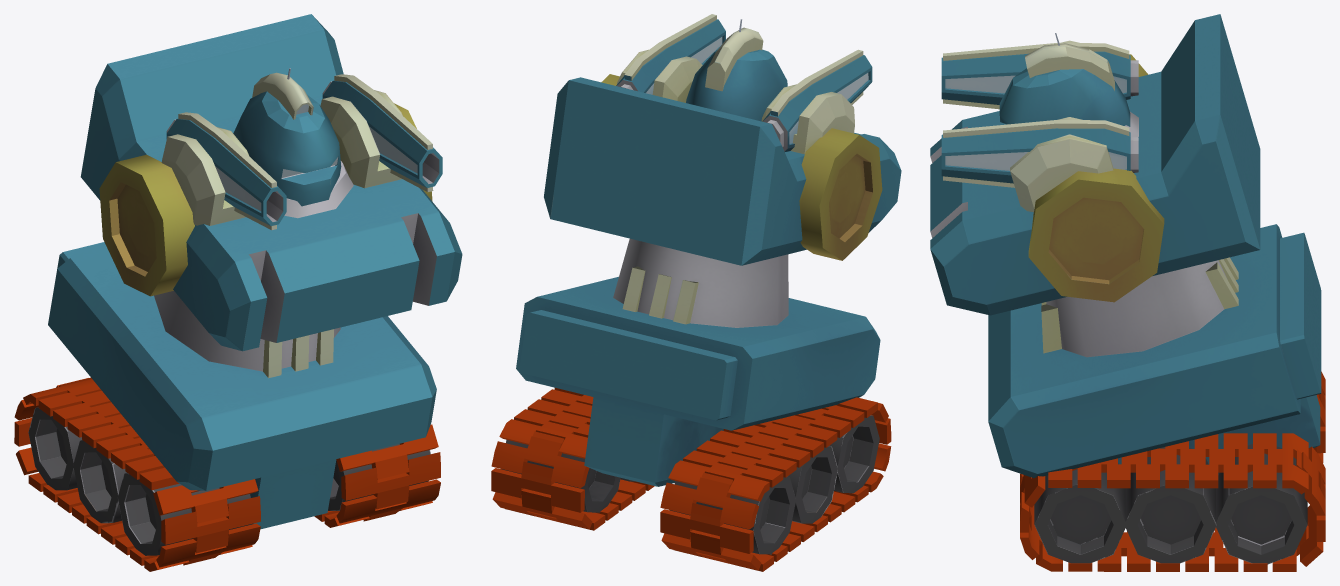
File: player_move6.obj
The picture shows the model from 3 angles, left to right: view 1: azimuth 30°, elevation 25°; view 2: azimuth 150°, elevation 25°; view 3: azimuth 270°, elevation 25°; orthographic projection. The views are drawn at different scales.
Visible parts, largest first — view 1: Object004, Box038, Object012, Object011, Box042; view 2: Object004, Box038, Box042, Object011, Object012; view 3: Object004, Object011, Box042, Object012, Box038.
Boxes of the visible parts, x1=… form: Object004: x1=48, y1=14, x2=462, y2=529; Box038: x1=14, y1=377, x2=260, y2=571; Object012: x1=166, y1=74, x2=442, y2=230; Object011: x1=28, y1=407, x2=430, y2=555; Box042: x1=314, y1=424, x2=440, y2=527; Object004: x1=516, y1=27, x2=901, y2=486; Box038: x1=660, y1=397, x2=891, y2=571; Box042: x1=491, y1=388, x2=654, y2=530; Object011: x1=501, y1=415, x2=879, y2=554; Object012: x1=616, y1=14, x2=872, y2=151; Object004: x1=930, y1=14, x2=1321, y2=478; Object011: x1=1034, y1=443, x2=1307, y2=564; Box042: x1=1020, y1=433, x2=1325, y2=571; Object012: x1=941, y1=43, x2=1138, y2=187; Box038: x1=1314, y1=371, x2=1325, y2=462.
Bounding box in the file's own units: 110 × 179 × 135.
3 materials, 1 textured.
